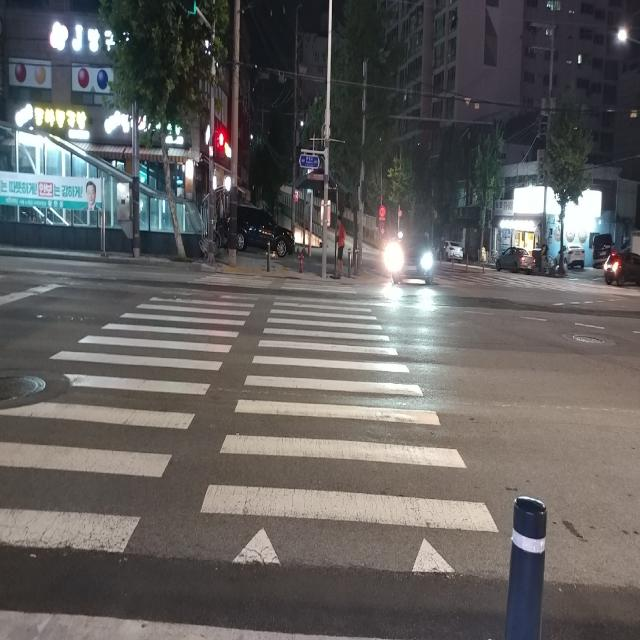빨간불: (218, 131, 224, 158)
횡단보도: (0, 271, 499, 577)
